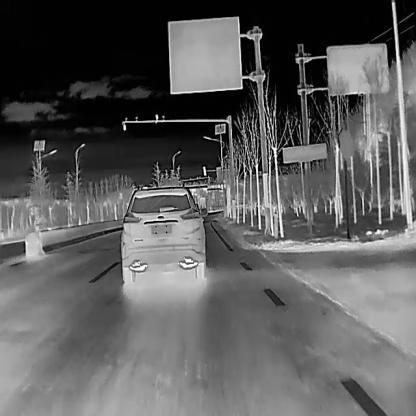car: (120, 184, 207, 283)
